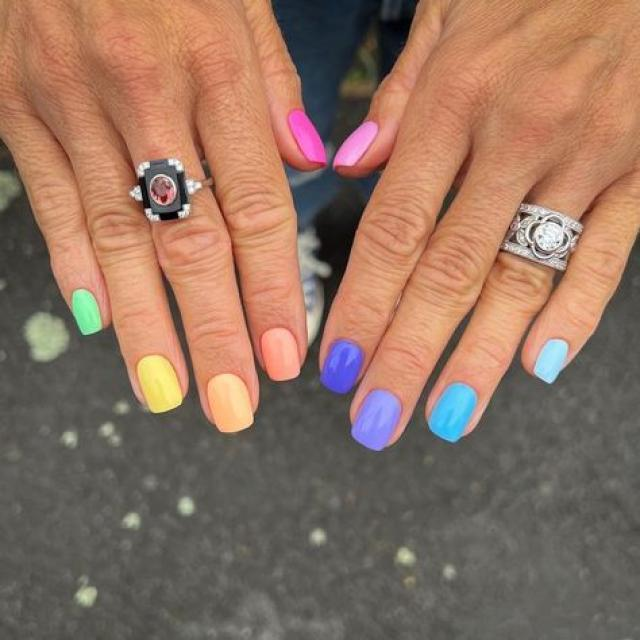Fingernail: (351, 389, 401, 452), (428, 382, 477, 445), (136, 354, 183, 414), (208, 374, 253, 433), (320, 340, 364, 394), (288, 109, 328, 168), (333, 121, 379, 172), (262, 328, 300, 381), (535, 339, 569, 384), (71, 289, 103, 336)
